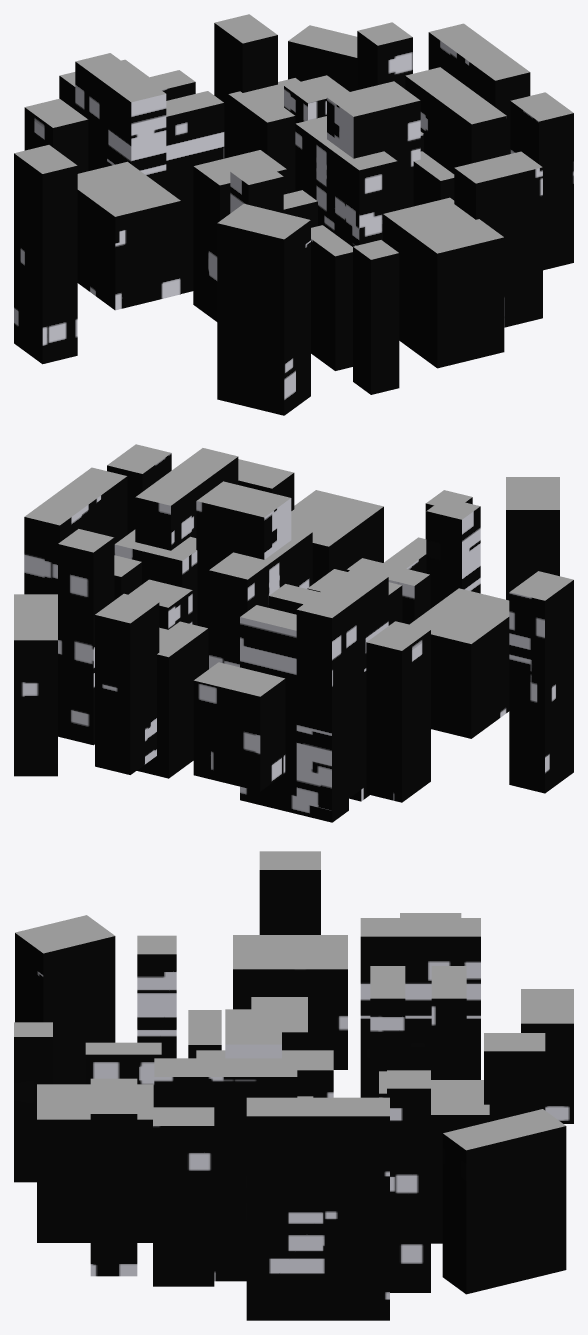
File: Downtown03.fbx
3 views of the same model, one above another, from view 1: azimuth 30°, elevation 25°; view 2: azimuth 150°, elevation 25°; view 3: azimuth 270°, elevation 25° (orthographic). The views are drawn at different scales.
Visible parts, largest first — view 1: Downtown03; view 2: Downtown03; view 3: Downtown03.
Boxes of the visible parts, bbox=[...] form: Downtown03: bbox=[14, 14, 573, 415]; Downtown03: bbox=[14, 444, 573, 822]; Downtown03: bbox=[14, 851, 573, 1320].
Bounding box in the file's own units: 1.63 × 0.6732 × 1.53.
Materials: 2 (1 with a texture image).
